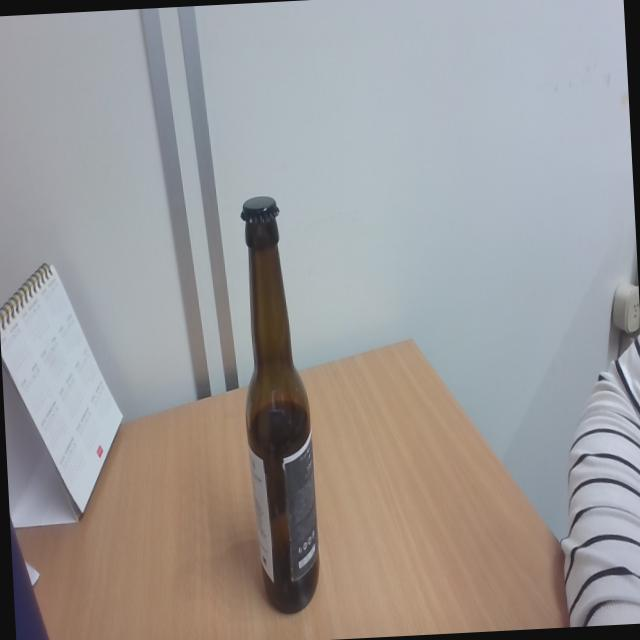Bottle: (234, 190, 320, 614)
Cap: (237, 194, 284, 228)
Label: (248, 446, 318, 580)
